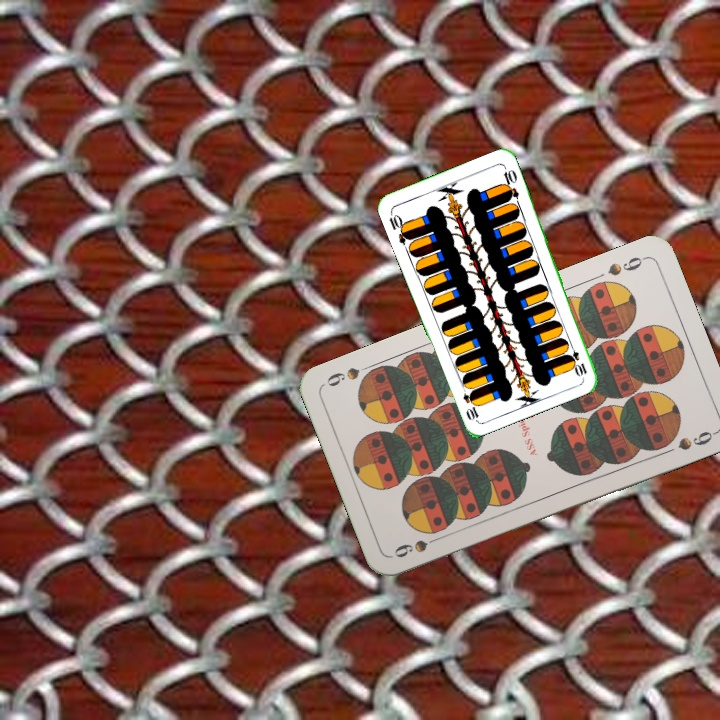E10: (385, 208, 413, 247), (564, 339, 590, 379)
S9: (390, 531, 447, 560), (603, 252, 649, 279)
